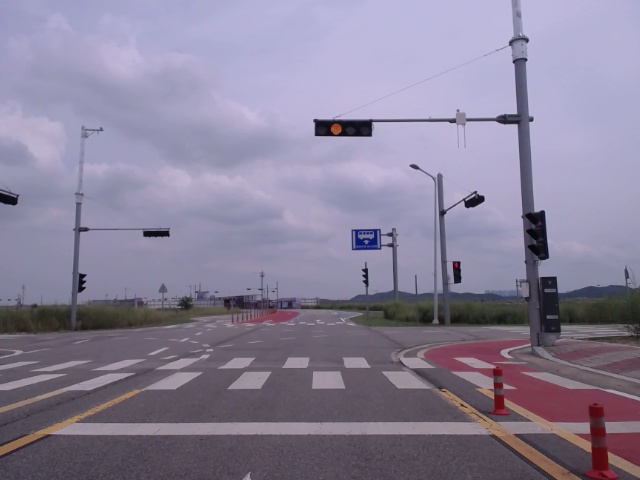orange_4: (314, 119, 372, 137)
